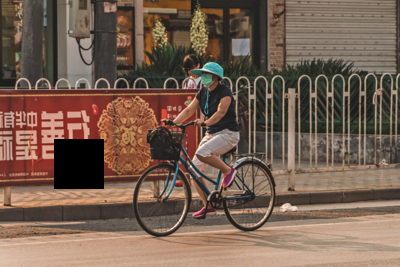with_mask: (201, 69, 216, 87)
without_mask: (184, 67, 195, 78)
